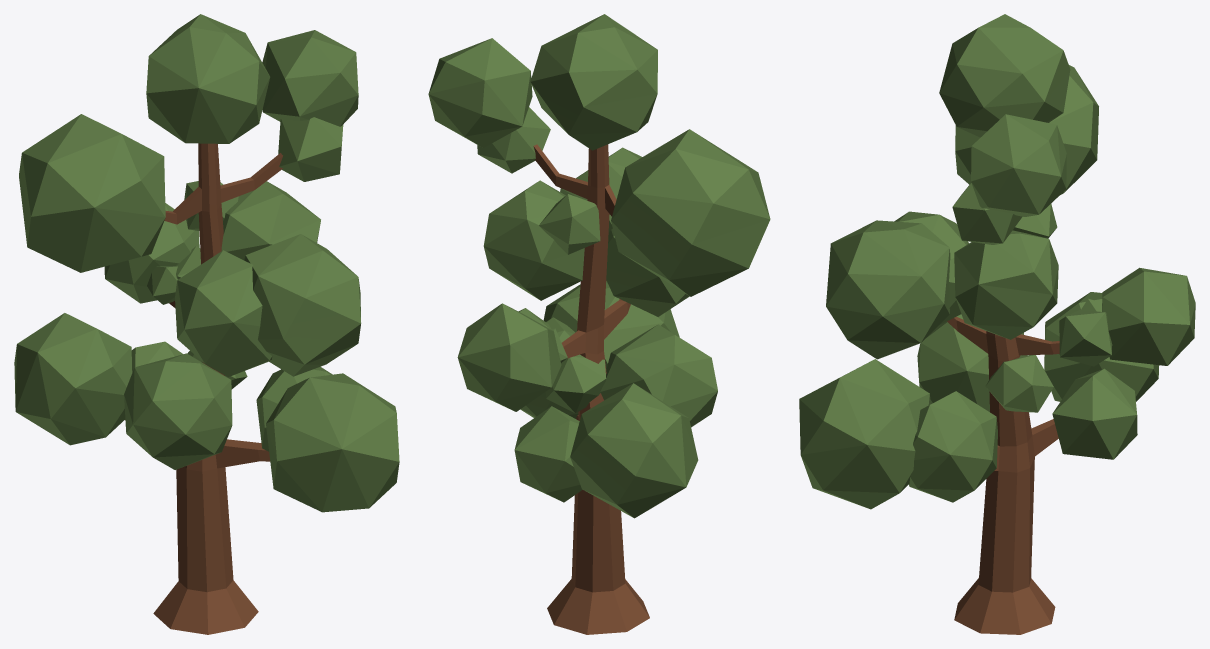
Rendered from arbol9.glb.
The picture shows the model from 3 angles, left to right: view 1: azimuth 30°, elevation 25°; view 2: azimuth 150°, elevation 25°; view 3: azimuth 270°, elevation 25°; orthographic projection.
Visible parts, largest first — view 1: Circle_6; view 2: Circle_6; view 3: Circle_6.
Part boxes in pixels (left/top/right/bottom): Circle_6: left=14, top=14, right=399, bottom=634; Circle_6: left=428, top=14, right=770, bottom=634; Circle_6: left=799, top=14, right=1195, bottom=634.
Size of the model in its own units: 1.45 by 2.48 by 1.51.
